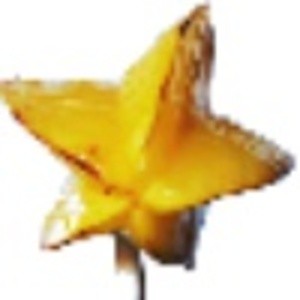carambola: (1, 1, 295, 300)
